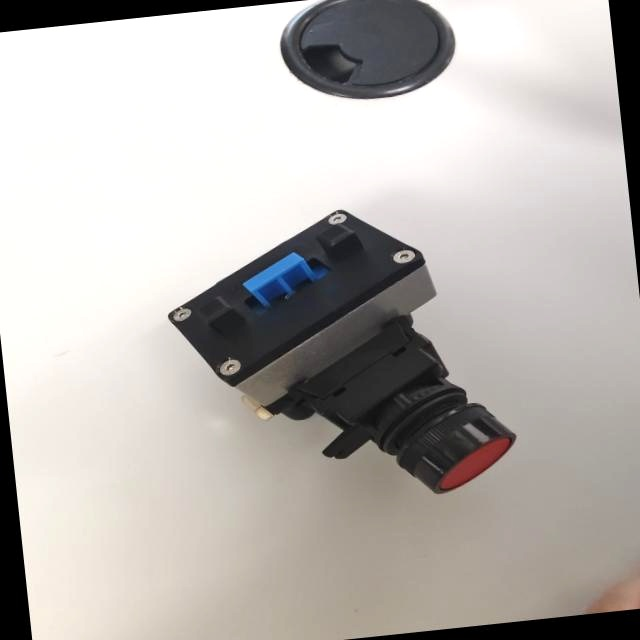push button: (158, 191, 522, 520)
